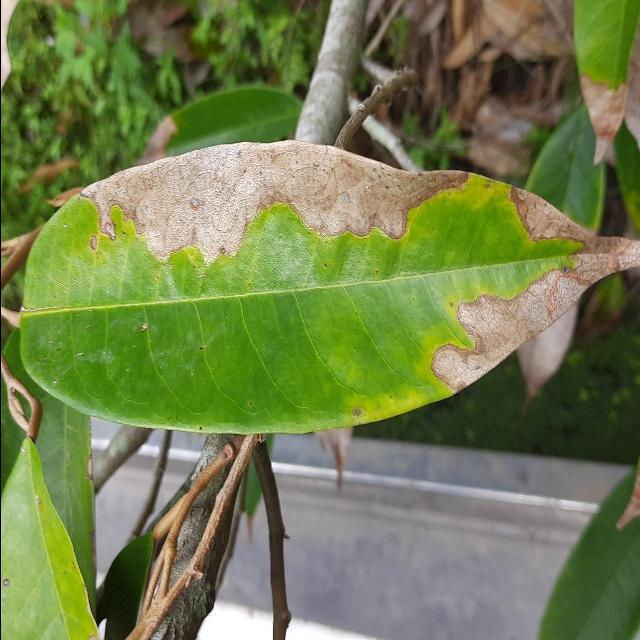Leaf Blight: (7, 133, 640, 441)
